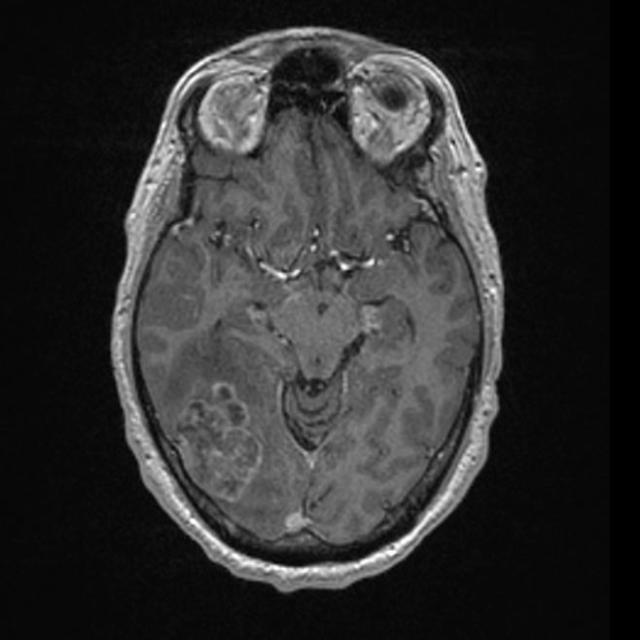Tumor: (185, 381, 262, 495)
